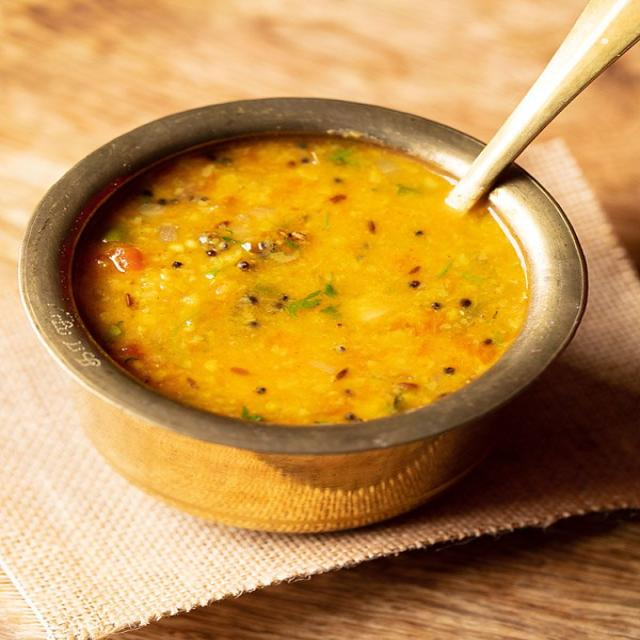dal: (165, 160, 471, 391)
